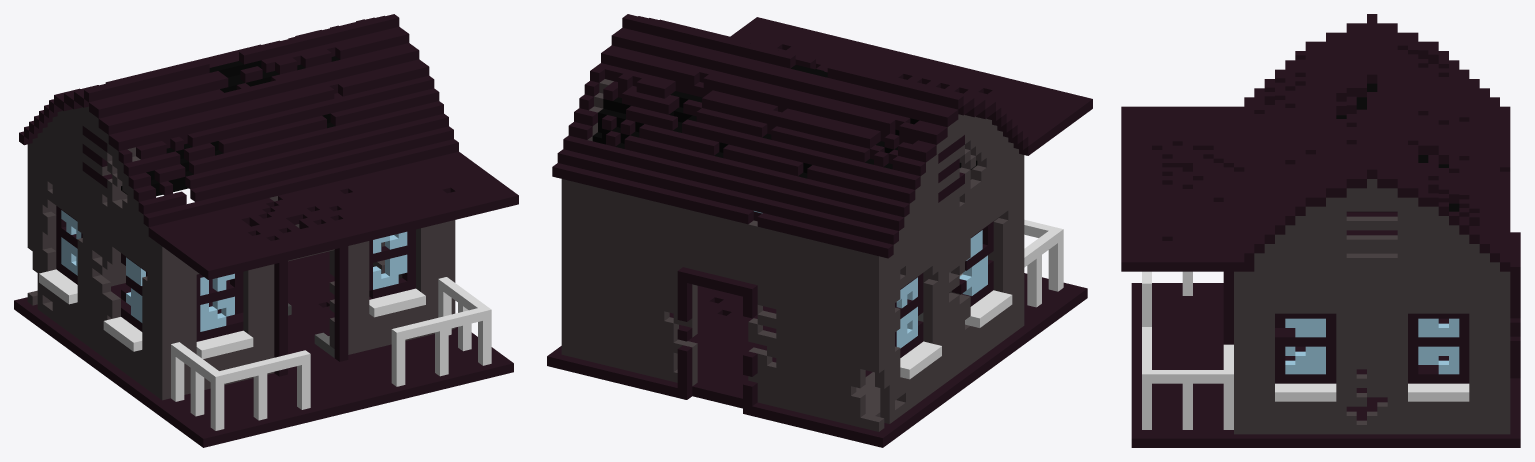
Rendered from Casinha 3.obj.
3 views of the same model, side by side, from view 1: azimuth 30°, elevation 25°; view 2: azimuth 150°, elevation 25°; view 3: azimuth 270°, elevation 25° (orthographic). The views are drawn at different scales.
Size of the model in its own units: 3.6 by 3 by 3.9.
1 material, 1 textured.
